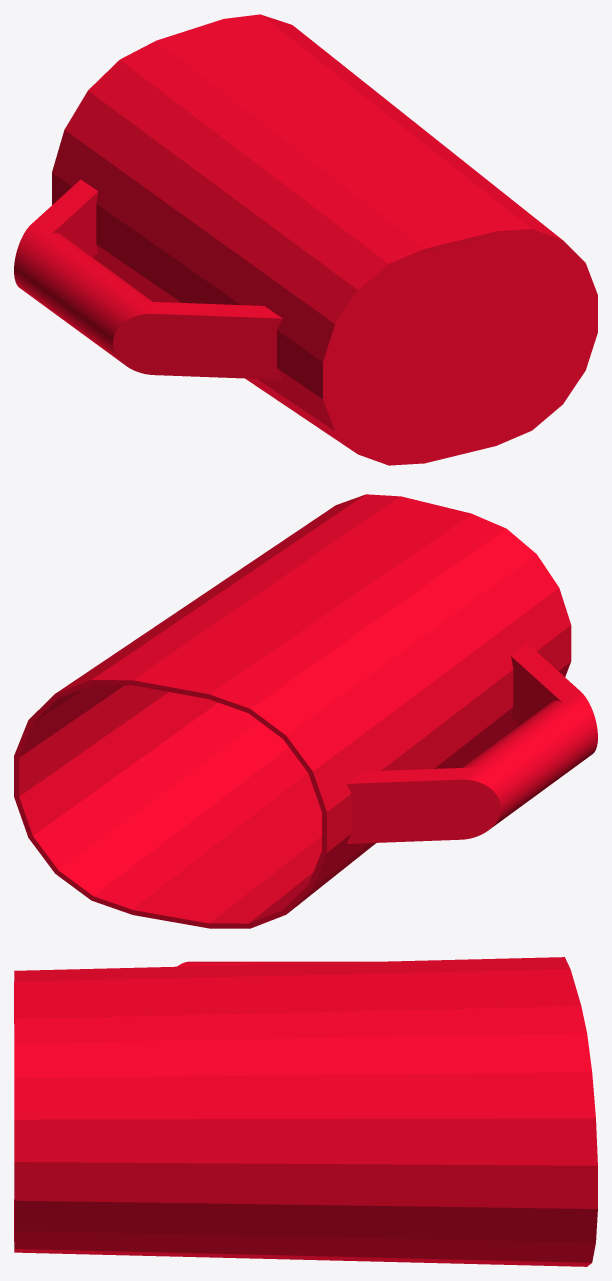
The model's file is CaramelCup.fbx.
3 renders of one model, top to bottom at view 1: azimuth 30°, elevation 25°; view 2: azimuth 150°, elevation 25°; view 3: azimuth 270°, elevation 25°, orthographic. The views are drawn at different scales.
Visible parts, largest first — view 1: Blank_Jug; view 2: Blank_Jug; view 3: Blank_Jug.
Boxes of the visible parts, box(x1,y1,x2,y2) form: Blank_Jug: box(14, 14, 597, 465); Blank_Jug: box(14, 494, 597, 928); Blank_Jug: box(14, 957, 597, 1266).
Size of the model in its own units: 1663 by 937 by 1997.
